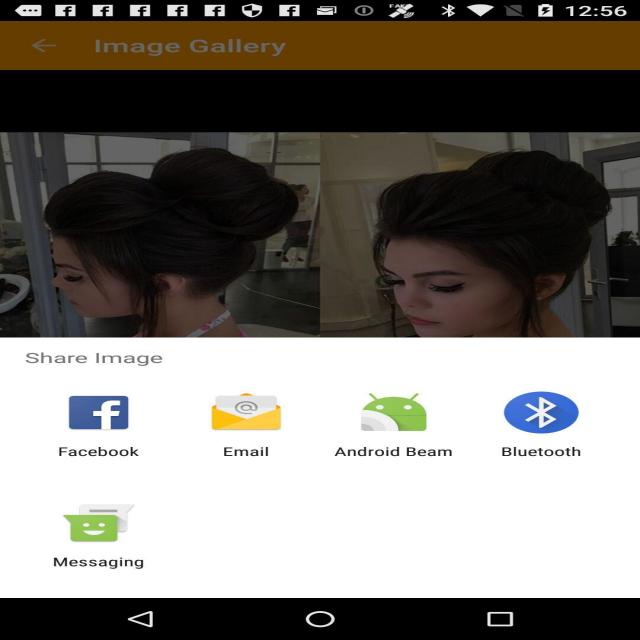button: (35, 385, 640, 575)
image: (18, 80, 640, 343)
